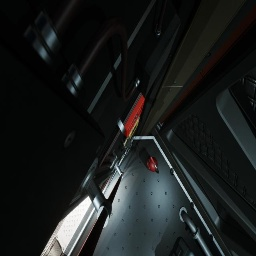EmergencyPhone ,: (121, 116, 140, 154)
FireAlarm ,: (124, 95, 145, 138)
FireExtinguisher ]: (146, 156, 159, 174)
